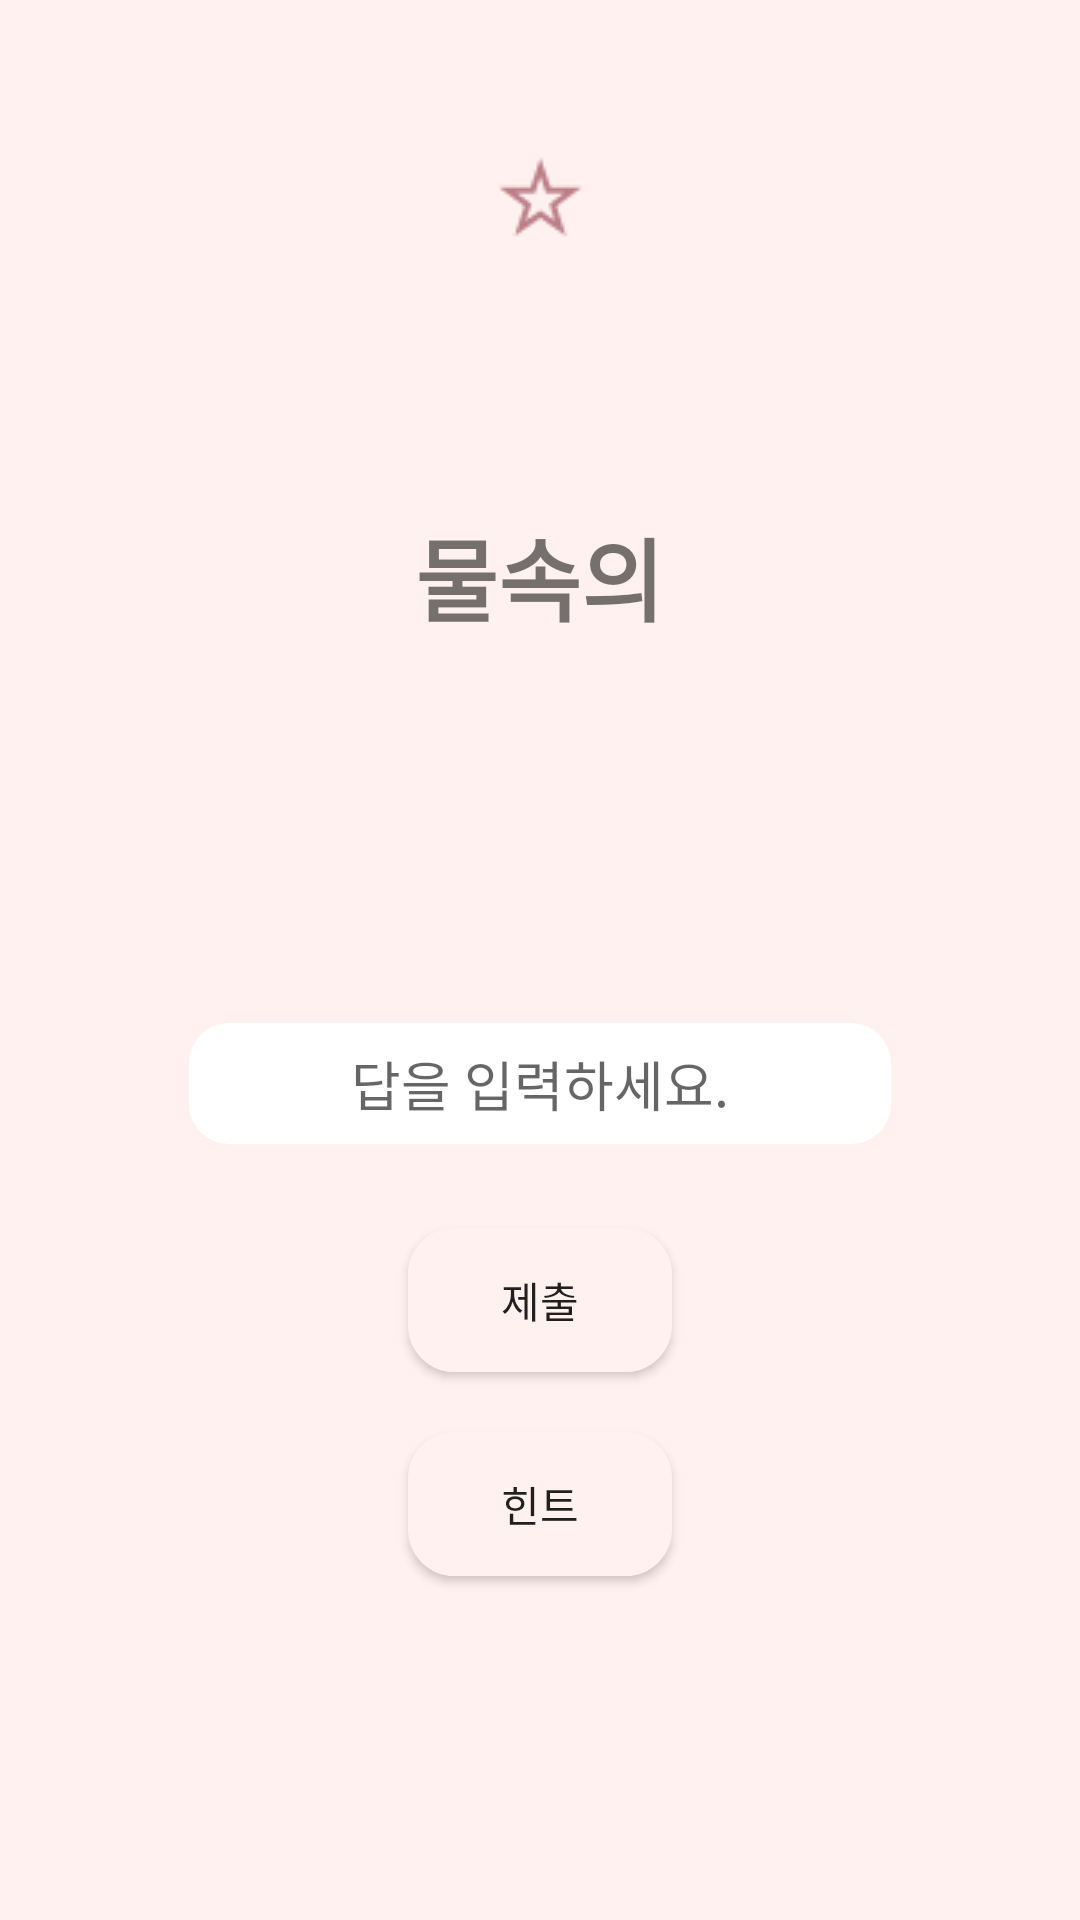

Named icons in this screenshot (1080w x 1920h) and their bounding boxes, bbox=[x1, y1, x2, y2]:
star: bbox=[500, 159, 580, 236]
